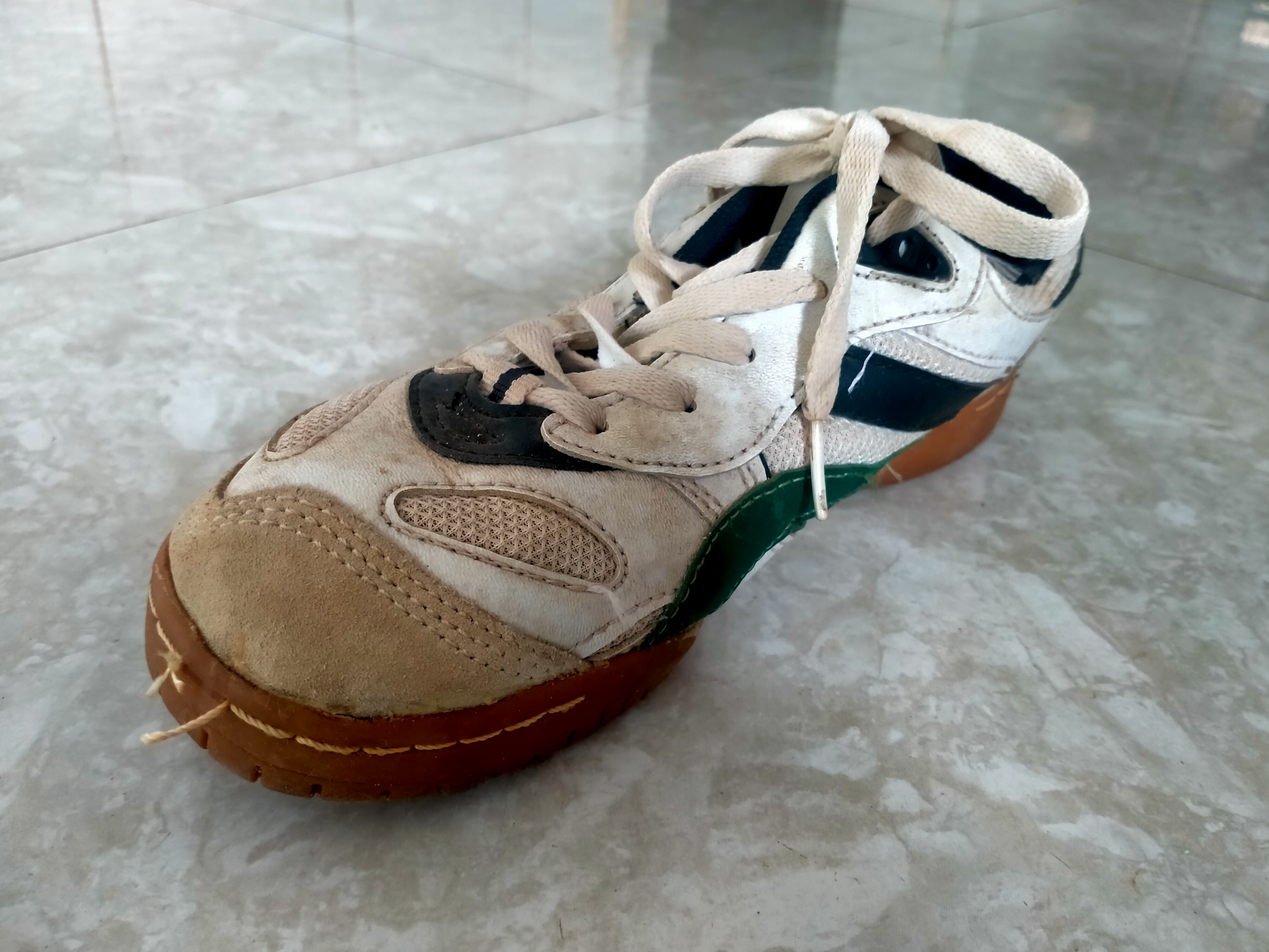broken: (135, 644, 232, 748)
